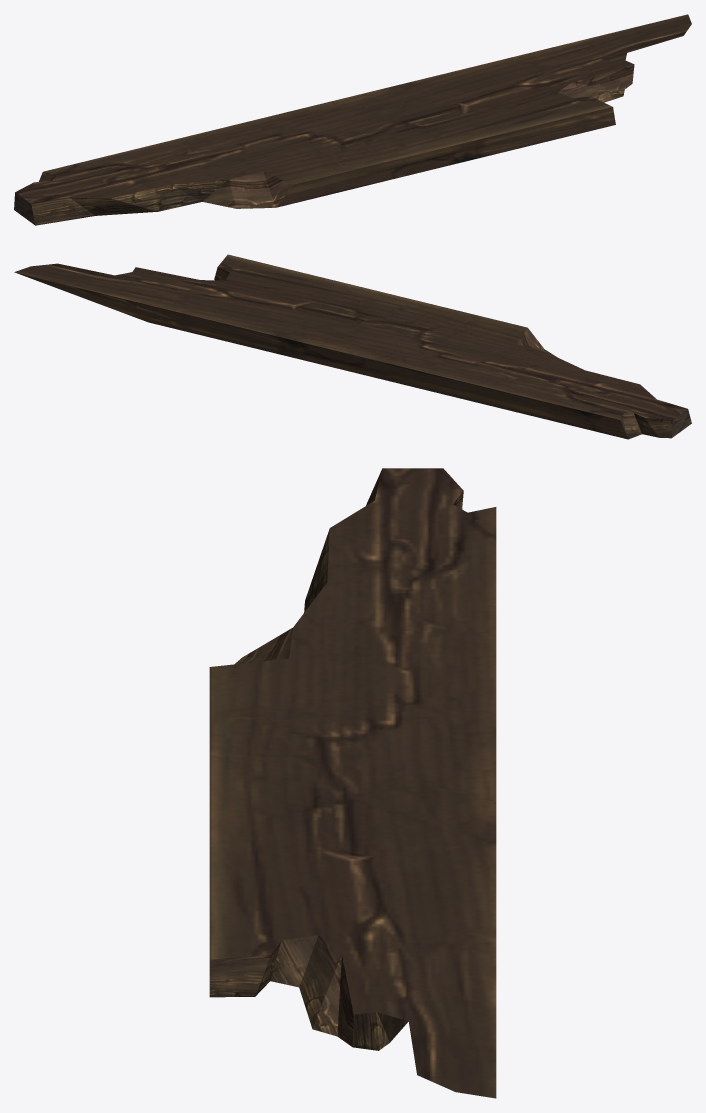
The model's file is A_mutou_posun_003.fbx.
The picture shows the model from 3 angles, top to bottom: view 1: azimuth 30°, elevation 25°; view 2: azimuth 150°, elevation 25°; view 3: azimuth 270°, elevation 25°; orthographic projection. The views are drawn at different scales.
Visible parts, largest first — view 1: A_mutou_posun_003; view 2: A_mutou_posun_003; view 3: A_mutou_posun_003.
Boxes of the visible parts, x1,y1,x2,y2 form: A_mutou_posun_003: [14, 14, 691, 225]; A_mutou_posun_003: [14, 254, 691, 439]; A_mutou_posun_003: [209, 468, 496, 1098].
Bounding box in the file's own units: 212 × 5.46 × 40.7.
